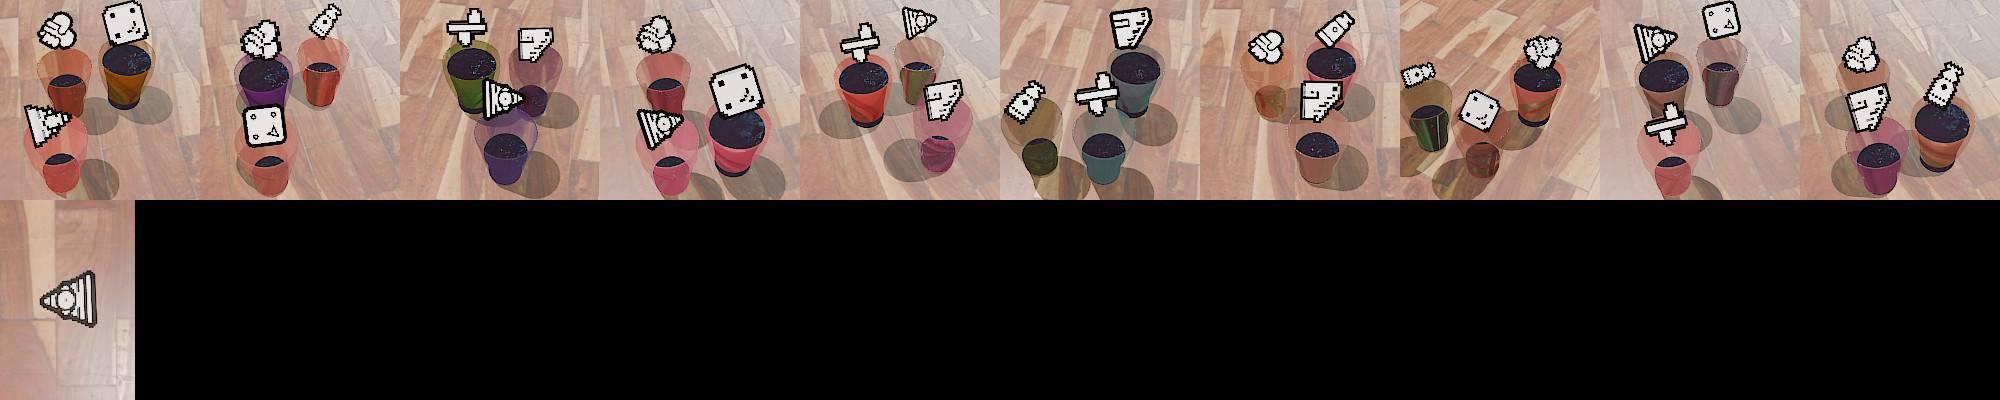icon: (37, 270, 99, 330), (708, 64, 764, 120), (1073, 68, 1120, 117), (1844, 85, 1892, 134), (101, 0, 149, 47), (23, 103, 73, 146), (1107, 6, 1152, 52), (1644, 101, 1689, 146), (241, 103, 288, 146), (1458, 88, 1503, 132), (636, 106, 682, 149), (1633, 22, 1679, 65), (1922, 61, 1964, 108), (1298, 79, 1342, 124), (239, 19, 283, 61), (482, 78, 524, 121), (923, 76, 963, 122), (839, 22, 881, 62), (635, 14, 677, 55), (446, 8, 489, 48), (1005, 79, 1043, 124), (1315, 10, 1357, 50), (1702, 0, 1741, 41), (37, 11, 77, 51), (1522, 34, 1564, 69), (517, 27, 555, 64), (1842, 36, 1879, 73), (1247, 29, 1284, 65), (307, 4, 342, 41), (902, 5, 936, 39), (1402, 61, 1435, 89)
